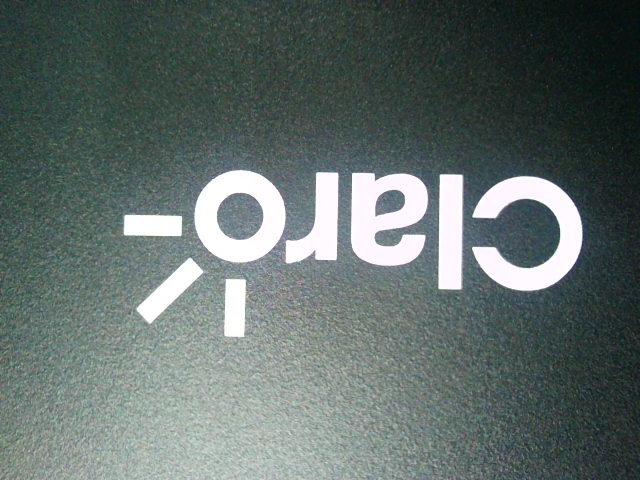BC_Claor: (114, 152, 589, 345)
